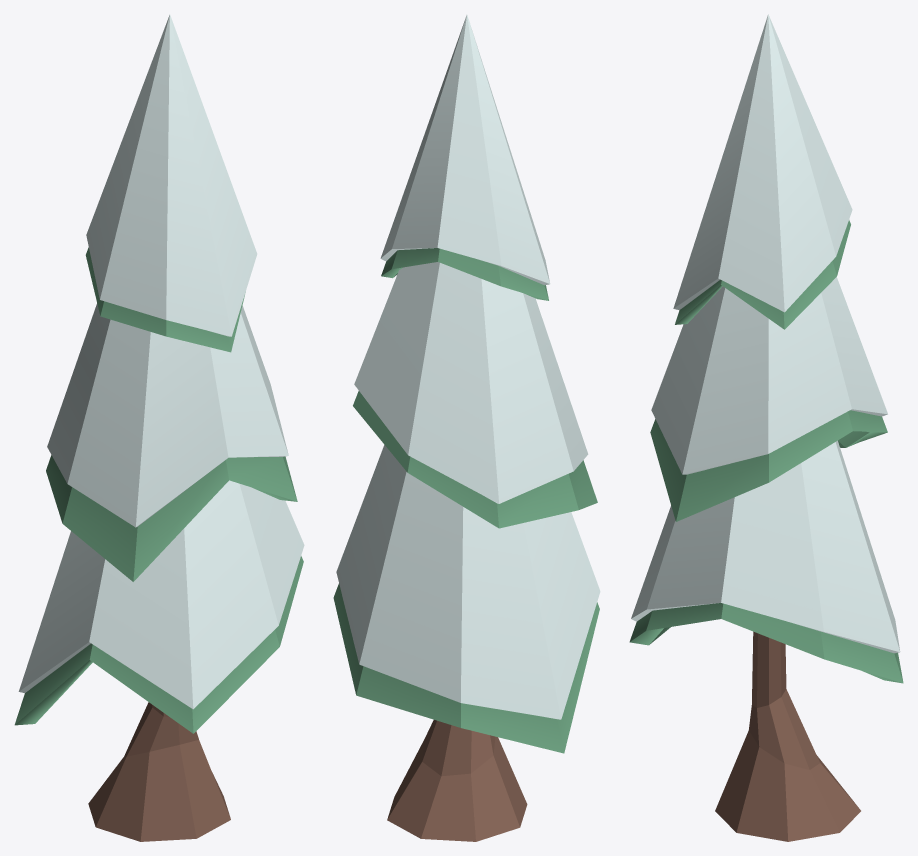
Rendered from TallTree.fbx.
3 views of the same model, side by side, from view 1: azimuth 30°, elevation 25°; view 2: azimuth 150°, elevation 25°; view 3: azimuth 270°, elevation 25° (orthographic).
Parts seen in each view (by area): view 1: polySurface2; view 2: polySurface2; view 3: polySurface2.
Part boxes in pixels (<box>): polySurface2: <box>14,14,304,841</box>; polySurface2: <box>333,14,600,841</box>; polySurface2: <box>629,14,903,841</box>.
Size of the model in its own units: 4.39 by 14.2 by 4.43.
